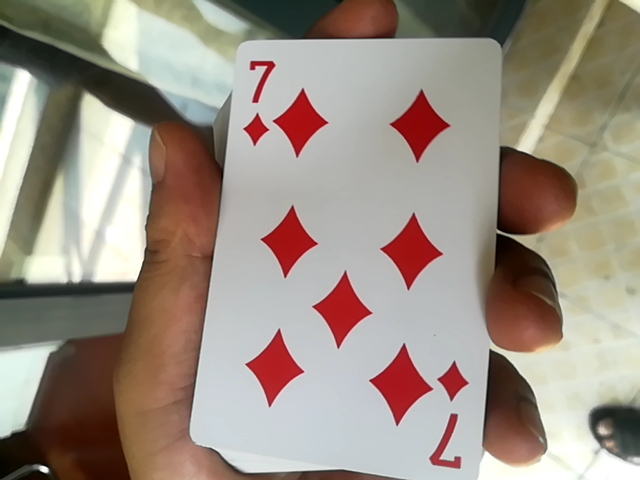fk 7: (193, 39, 501, 471)
